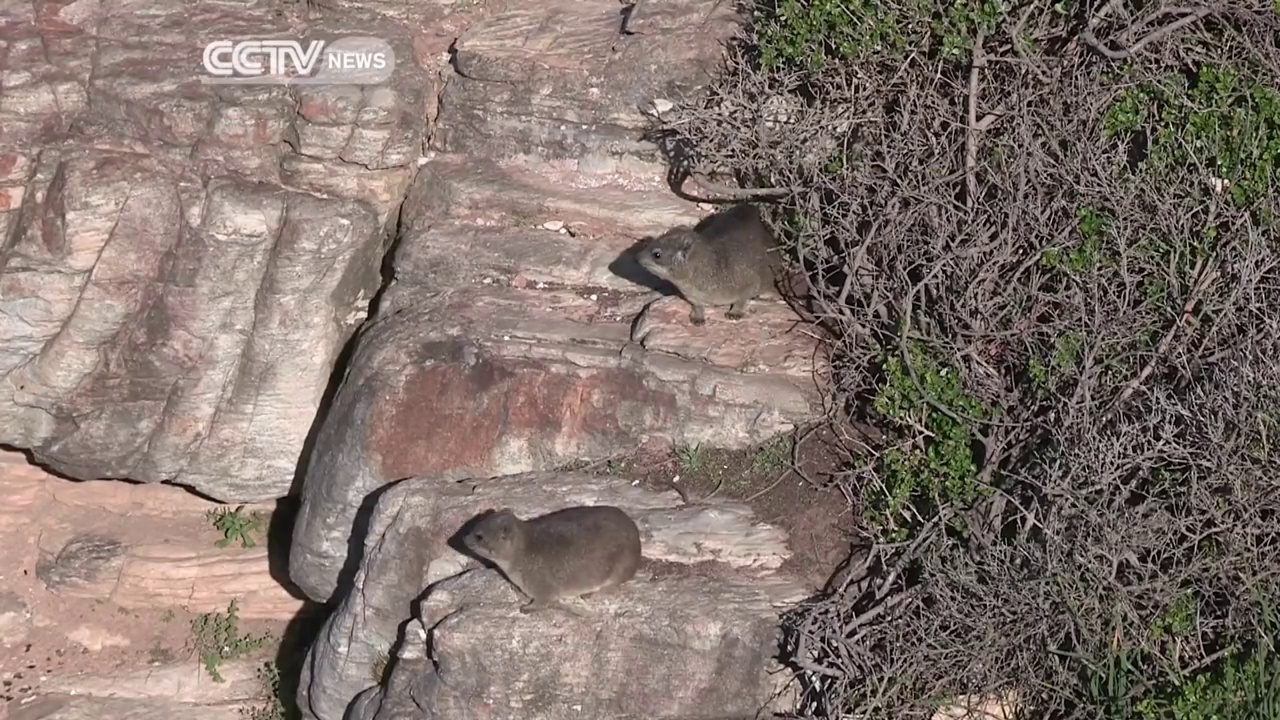Rock Hyrex: (454, 504, 642, 619), (633, 202, 783, 314)
